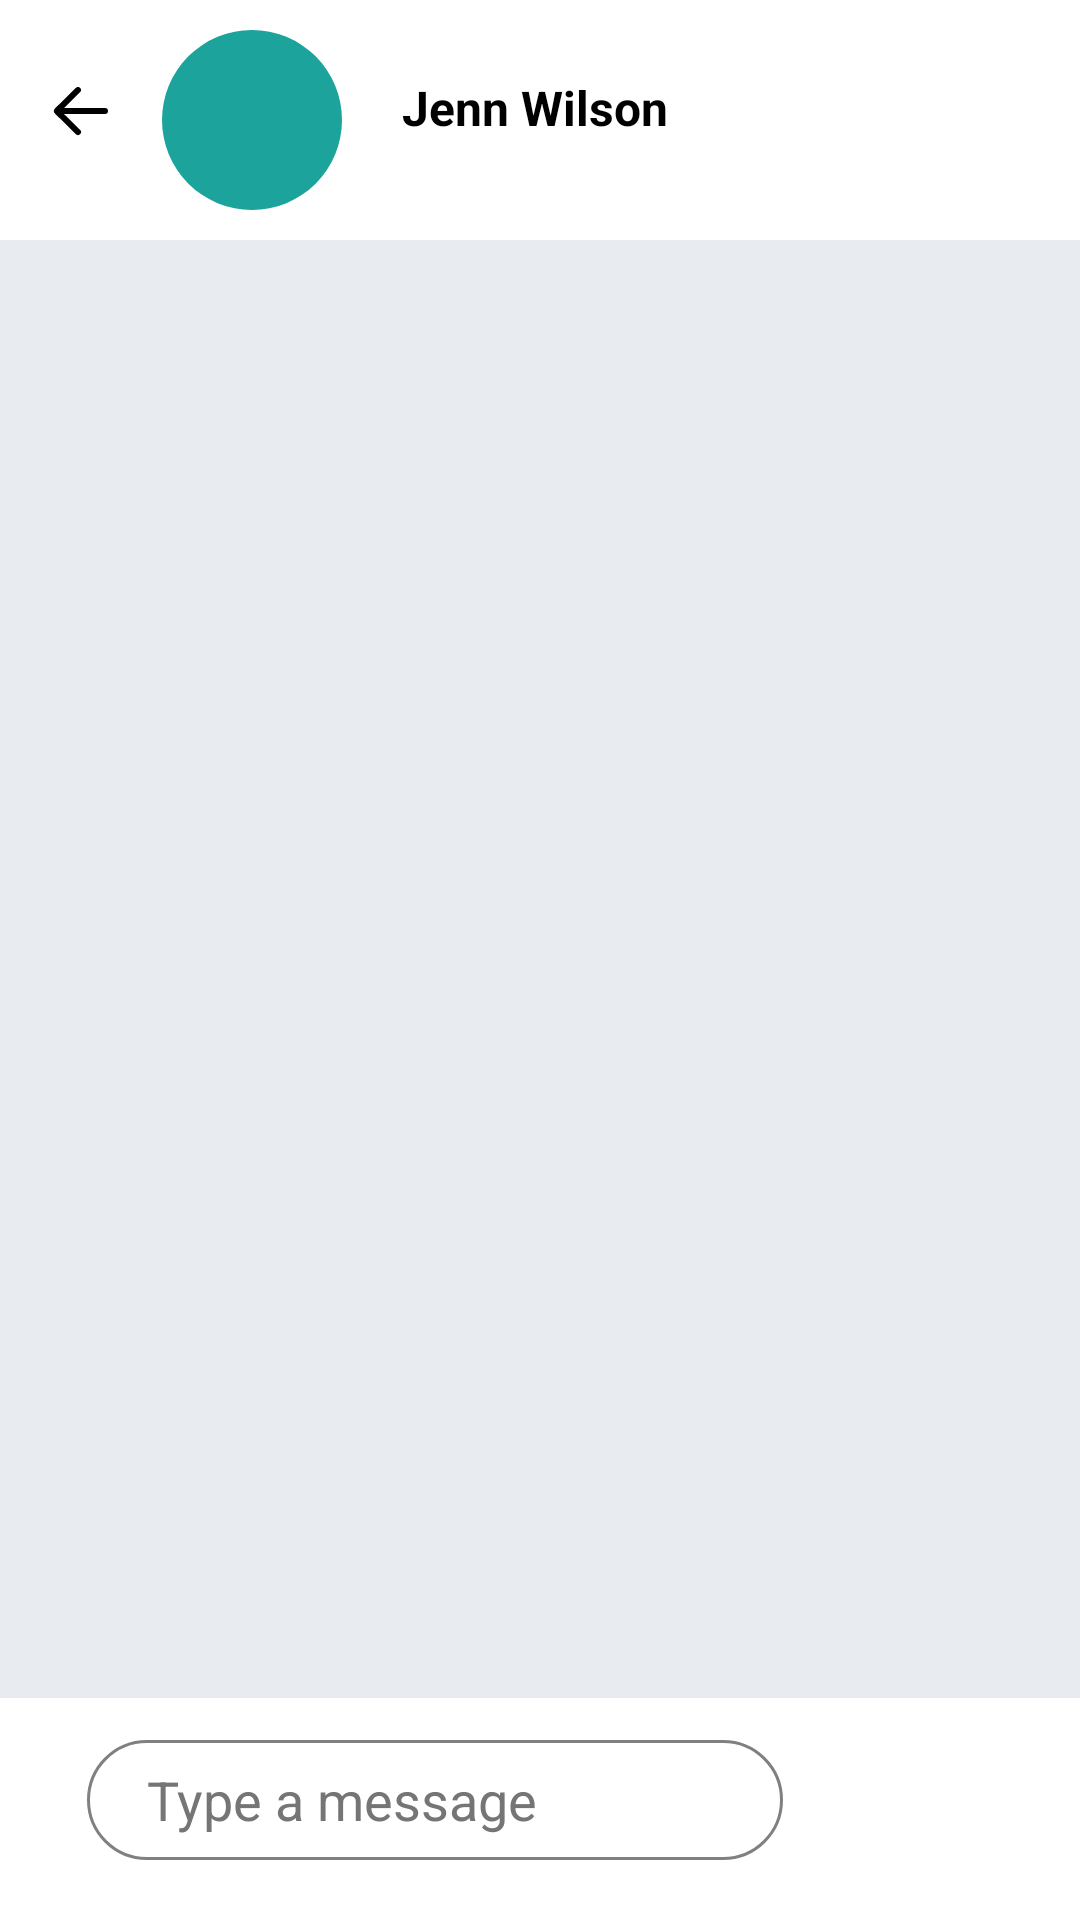

Screen size 1080w x 1920h. Icon name, then its box in pixels as [x1, y1, x2, y2]:
fluent arrow left: [53, 87, 108, 135]
